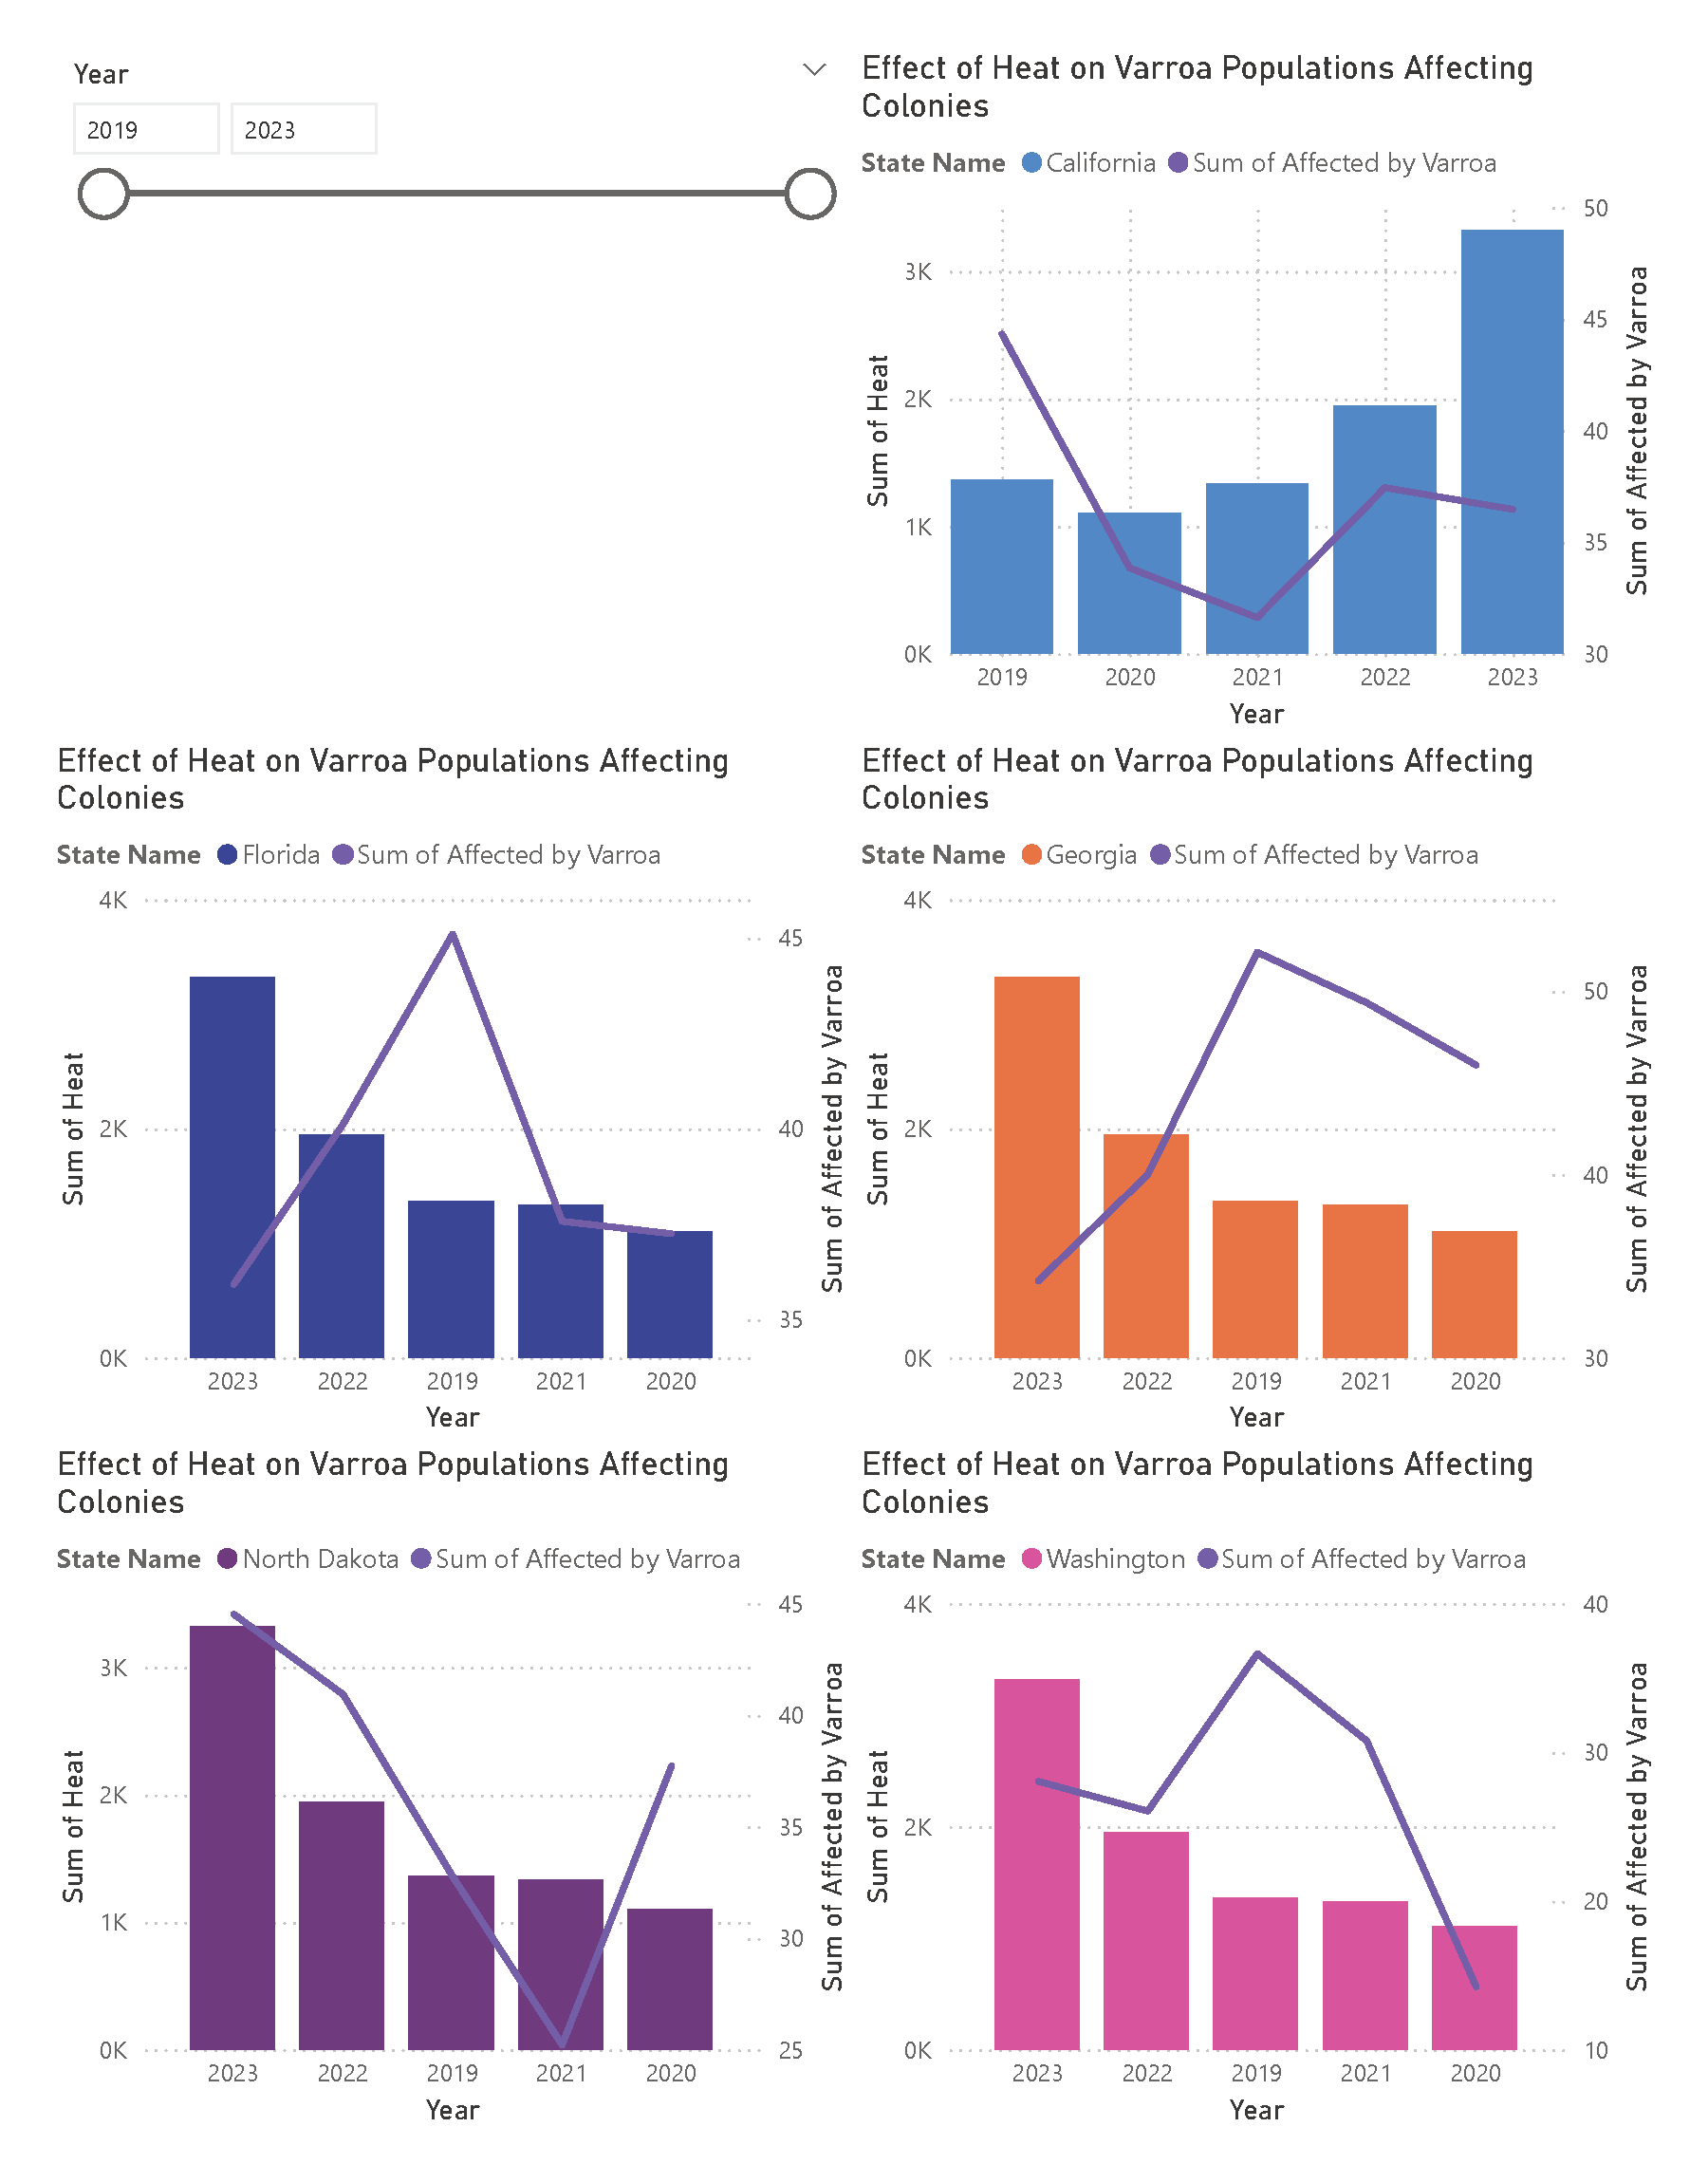

The dashboard page shown, as its layout file describes it:
{"tool":"powerbi","page":{"name":"Varroa & Heat","canvas":[816,1056],"ordinal":3},"visuals":[{"type":"lineClusteredColumnComboChart","title":"Effect of Heat on Varroa Populations Affecting Colonies","fields":{"Category":["honey data.Year"],"Y2":["Sum(honey data.Affected by Varroa)"],"Series":["honey data.State Name"],"Y":["Sum(storm_events_by_state_year.Heat)"]},"box":[0,350,408.6,355.7],"z":0},{"type":"lineClusteredColumnComboChart","title":"Effect of Heat on Varroa Populations Affecting Colonies","fields":{"Category":["honey data.Year"],"Y2":["Sum(honey data.Affected by Varroa)"],"Series":["honey data.State Name"],"Y":["Sum(storm_events_by_state_year.Heat)"]},"box":[407.1,706,408.6,350.1],"z":1000},{"type":"lineClusteredColumnComboChart","title":"Effect of Heat on Varroa Populations Affecting Colonies","fields":{"Category":["honey data.Year"],"Series":["honey data.State Name"],"Y2":["Sum(honey data.Affected by Varroa)"],"Y":["Sum(storm_events_by_state_year.Heat)"]},"box":[0,706,408.6,350.1],"z":2000},{"type":"lineClusteredColumnComboChart","title":"Effect of Heat on Varroa Populations Affecting Colonies","fields":{"Category":["honey data.Year"],"Y2":["Sum(honey data.Affected by Varroa)"],"Series":["honey data.State Name"],"Y":["Sum(storm_events_by_state_year.Heat)"]},"box":[407.1,350,408.6,355.7],"z":3000},{"type":"lineClusteredColumnComboChart","title":"Effect of Heat on Varroa Populations Affecting Colonies","fields":{"Category":["honey data.Year"],"Series":["honey data.State Name"],"Y2":["Sum(honey data.Affected by Varroa)"],"Y":["Sum(storm_events_by_state_year.Heat)"]},"box":[407.1,0,408.6,350.1],"z":4000},{"type":"slicer","fields":{"Values":["honey data.Year"]},"box":[0,0,407,350],"z":5000}]}

Visuals, with their boxes on the page's 816x1056 design canvas (x1, y1, x2, y2). These are canvas units, not pixel positions in the 1708x2183 screenshot, which may show the page scaled, cropped or inside an application window:
"Effect of Heat on Varroa Populations Affecting Colonies" lineClusteredColumnComboChart: BBox(0, 350, 409, 706)
"Effect of Heat on Varroa Populations Affecting Colonies" lineClusteredColumnComboChart: BBox(407, 706, 816, 1056)
"Effect of Heat on Varroa Populations Affecting Colonies" lineClusteredColumnComboChart: BBox(0, 706, 409, 1056)
"Effect of Heat on Varroa Populations Affecting Colonies" lineClusteredColumnComboChart: BBox(407, 350, 816, 706)
"Effect of Heat on Varroa Populations Affecting Colonies" lineClusteredColumnComboChart: BBox(407, 0, 816, 350)
slicer - honey data.Year: BBox(0, 0, 407, 350)
